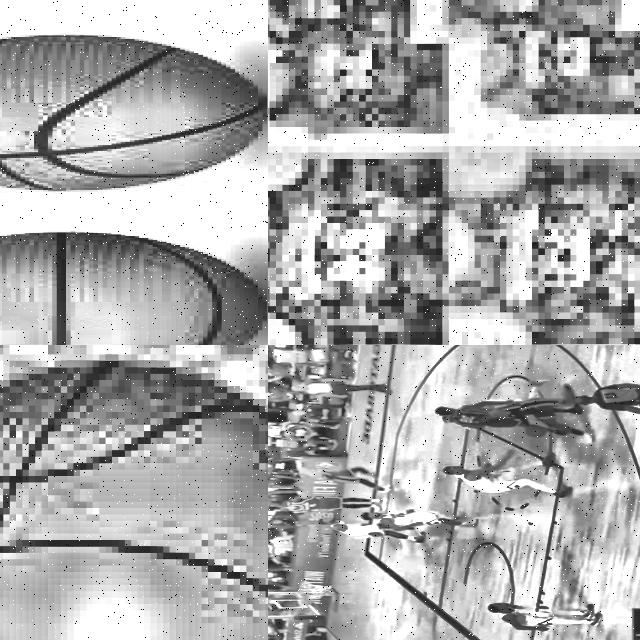Basketball: (0, 360, 268, 640), (0, 232, 265, 345), (525, 423, 548, 436)
